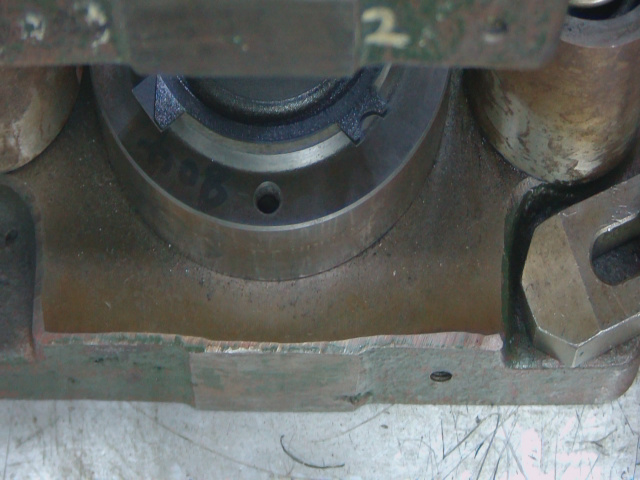HX2: (340, 89, 403, 154)
